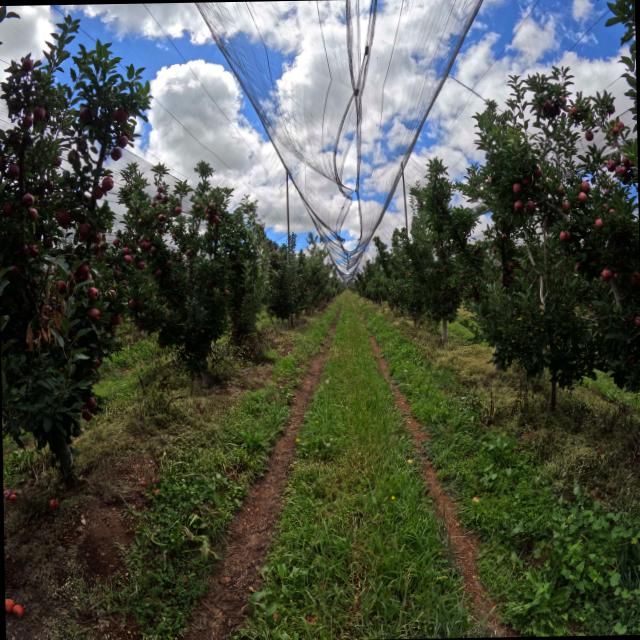-FireBlight-: (37, 285, 51, 349), (25, 323, 34, 350), (53, 308, 60, 330)
